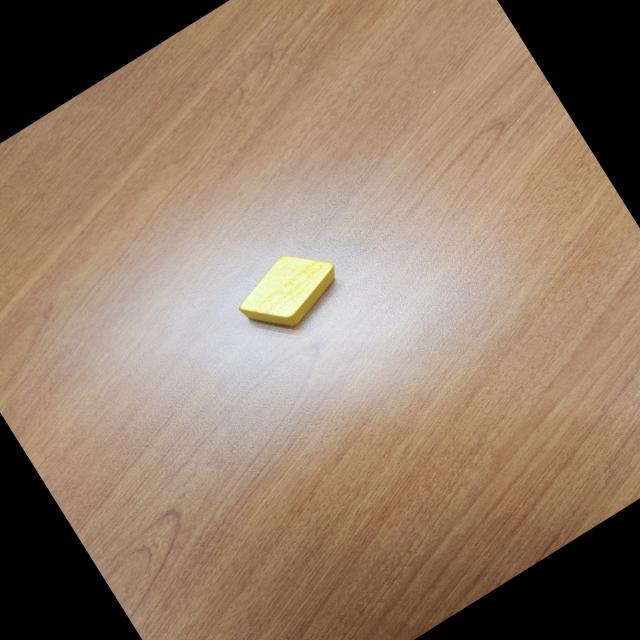yellow: (226, 234, 351, 347)
